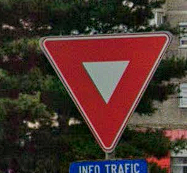cedeaza: (40, 30, 172, 153)
